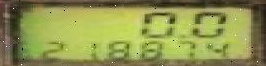-: (172, 31, 187, 38)
0: (185, 9, 225, 38), (134, 9, 172, 39)
1: (78, 39, 98, 59)
2: (35, 37, 65, 60)
4: (200, 39, 228, 59)
7: (172, 38, 195, 59)
8: (101, 38, 131, 59), (134, 39, 162, 59)
